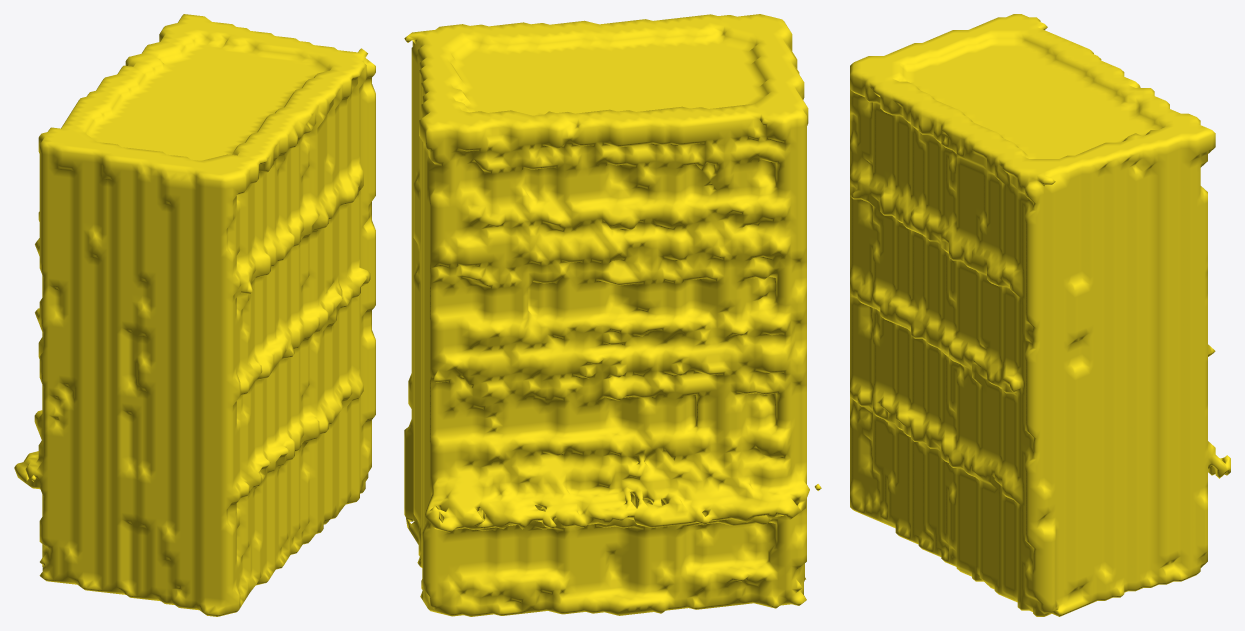
File: gen5_colored.obj
3 renders of one model, left to right at view 1: azimuth 30°, elevation 25°; view 2: azimuth 150°, elevation 25°; view 3: azimuth 270°, elevation 25°, orthographic. The views are drawn at different scales.
Visible parts, largest first — view 1: gen5.obj; view 2: gen5.obj; view 3: gen5.obj.
Boxes of the visible parts, x1,y1,x2,y2 form: gen5.obj: (14, 14, 375, 616); gen5.obj: (404, 14, 821, 616); gen5.obj: (850, 14, 1230, 616).
Bounding box in the file's own units: 54 × 64 × 50.
